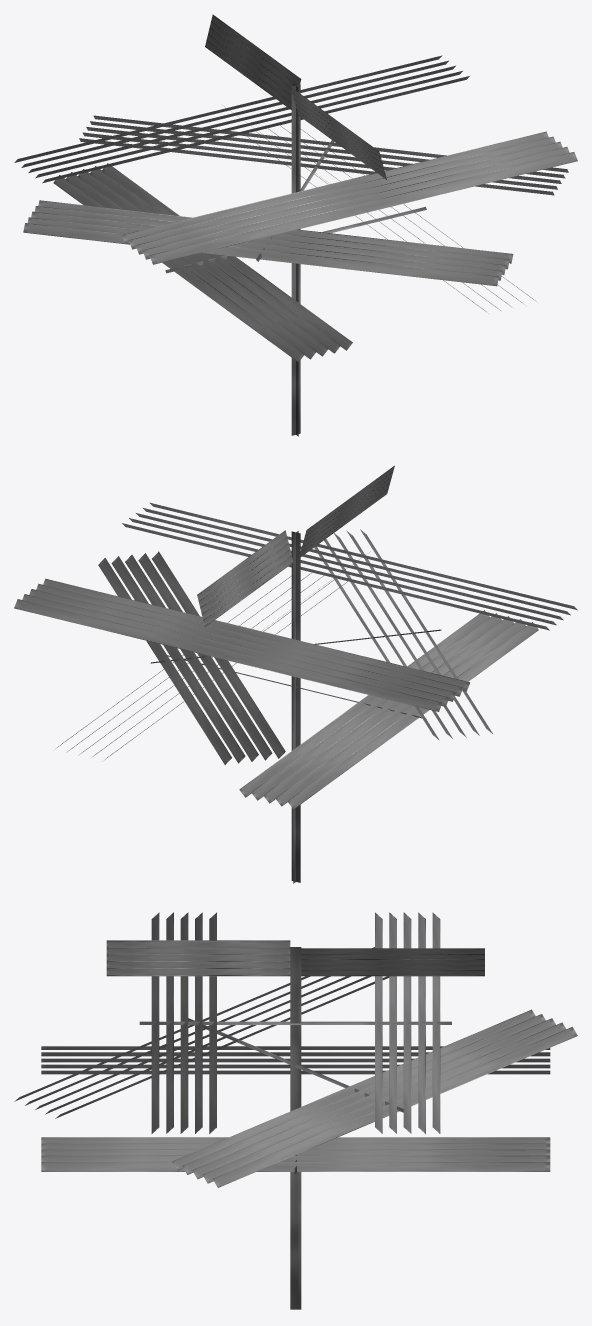
File: antenna_8.obj
3 views of the same model, one above another, from view 1: azimuth 30°, elevation 25°; view 2: azimuth 150°, elevation 25°; view 3: azimuth 270°, elevation 25° (orthographic). The views are drawn at different scales.
Visible parts, largest first — view 1: antenna_8; view 2: antenna_8; view 3: antenna_8.
Part boxes in pixels (left/top/right/bottom): antenna_8: left=14, top=14, right=577, bottom=436; antenna_8: left=14, top=465, right=577, bottom=883; antenna_8: left=14, top=912, right=577, bottom=1309.
Bounding box in the file's own units: 1.98 × 1.41 × 1.98.
1 material, 1 textured.
